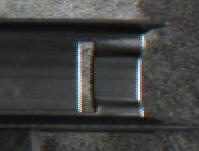press: (37, 14, 186, 134)
